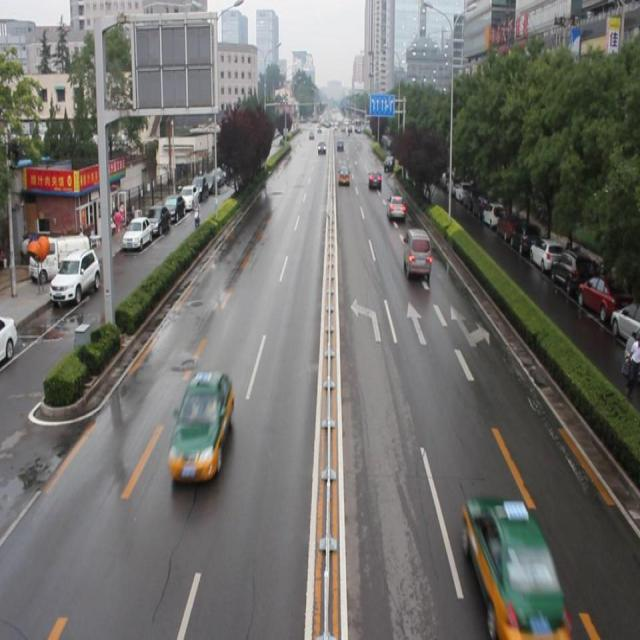car: (461, 492, 568, 640), (166, 370, 235, 486), (386, 193, 406, 222), (368, 167, 382, 190), (337, 165, 350, 186)
truck: (401, 226, 431, 278)
